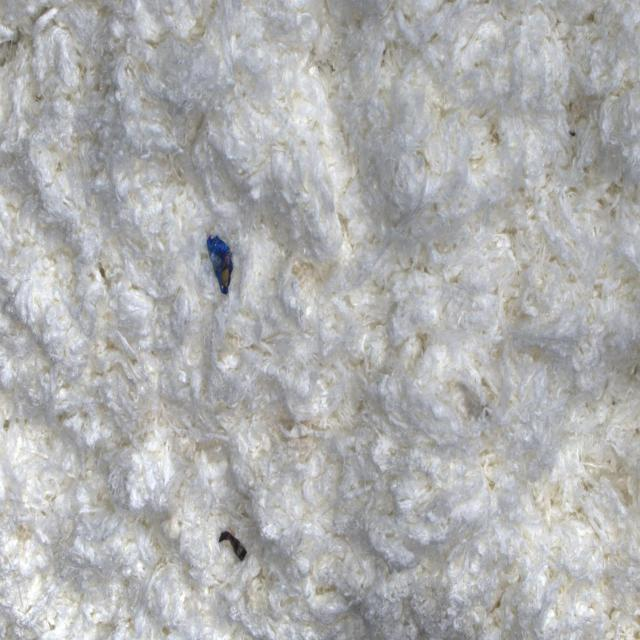dust: (200, 229, 238, 304), (218, 508, 252, 569)
